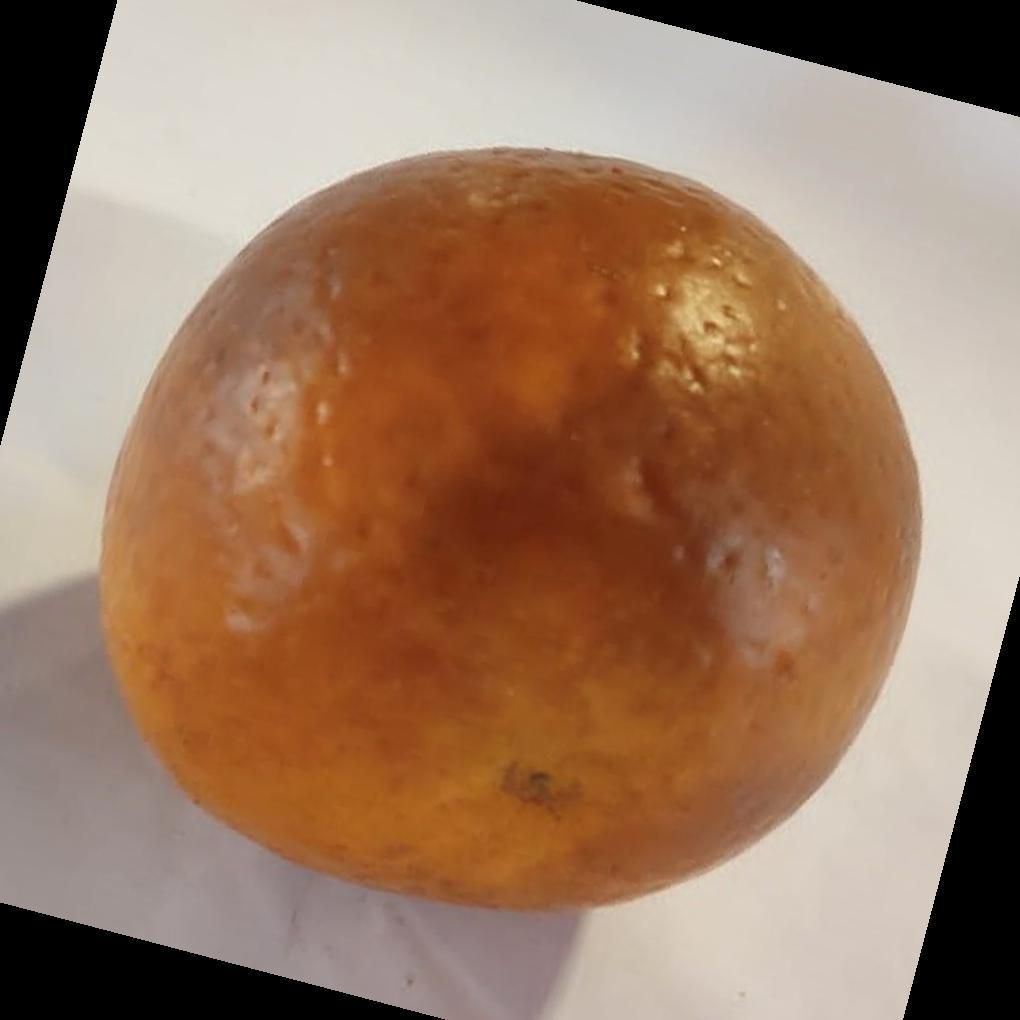FreshOrange: (97, 148, 924, 920)
